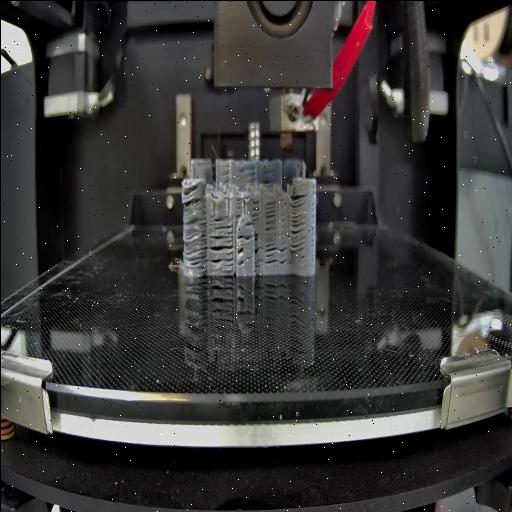cracks: (182, 218, 206, 271), (210, 220, 234, 272), (290, 192, 308, 254), (182, 180, 204, 206), (262, 245, 286, 265), (262, 200, 276, 234), (236, 230, 260, 242), (252, 248, 262, 274), (235, 246, 245, 268), (236, 166, 254, 178), (249, 201, 259, 219), (258, 174, 276, 184), (242, 219, 254, 229), (234, 210, 242, 218)
